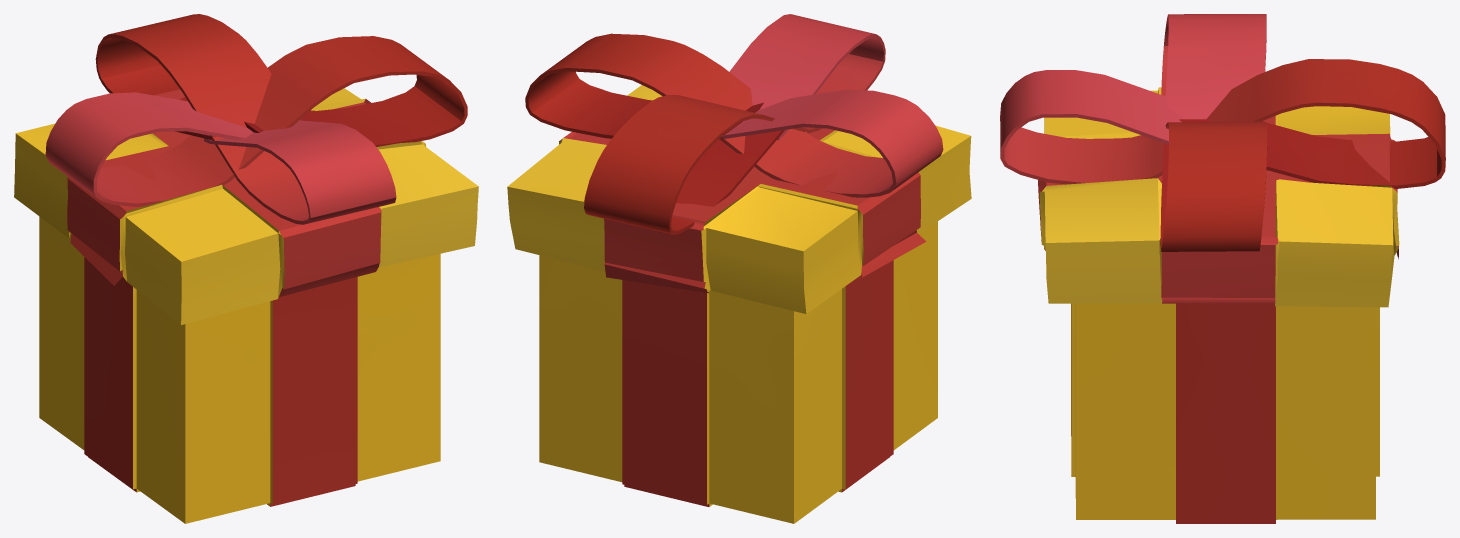
The model's file is GiftBox2.fbx.
3 renders of one model, left to right at view 1: azimuth 30°, elevation 25°; view 2: azimuth 150°, elevation 25°; view 3: azimuth 270°, elevation 25°, orthographic. The views are drawn at different scales.
Visible parts, largest first — view 1: Christmas Gift; view 2: Christmas Gift; view 3: Christmas Gift.
Part boxes in pixels (x1,y1,x2,y2): Christmas Gift: (14,14,478,523); Christmas Gift: (507,14,971,523); Christmas Gift: (1000,14,1445,523).
Bounding box in the file's own units: 1306 × 1225 × 1306.
